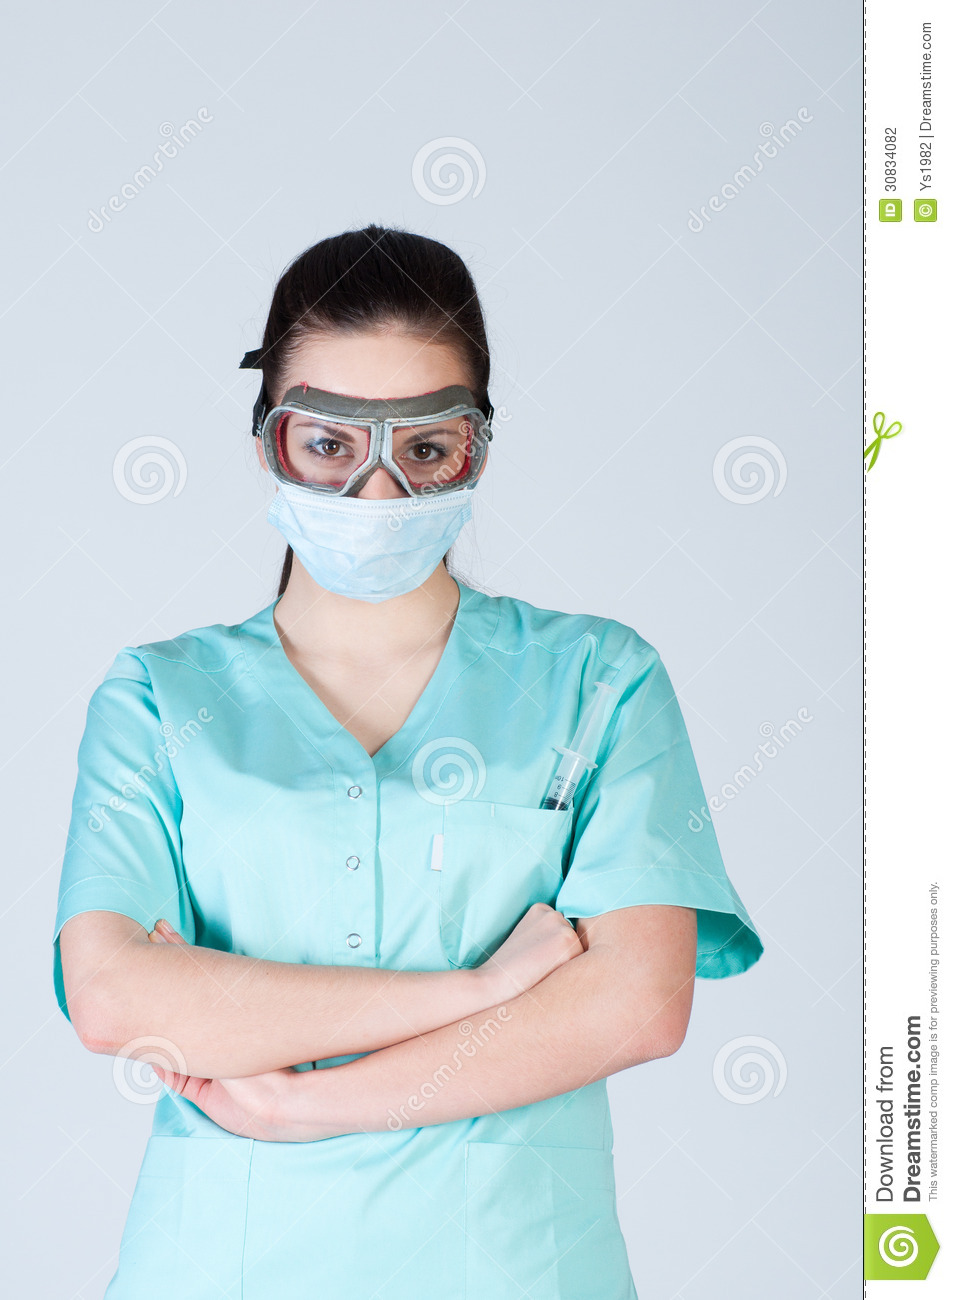mask: (272, 474, 473, 604)
